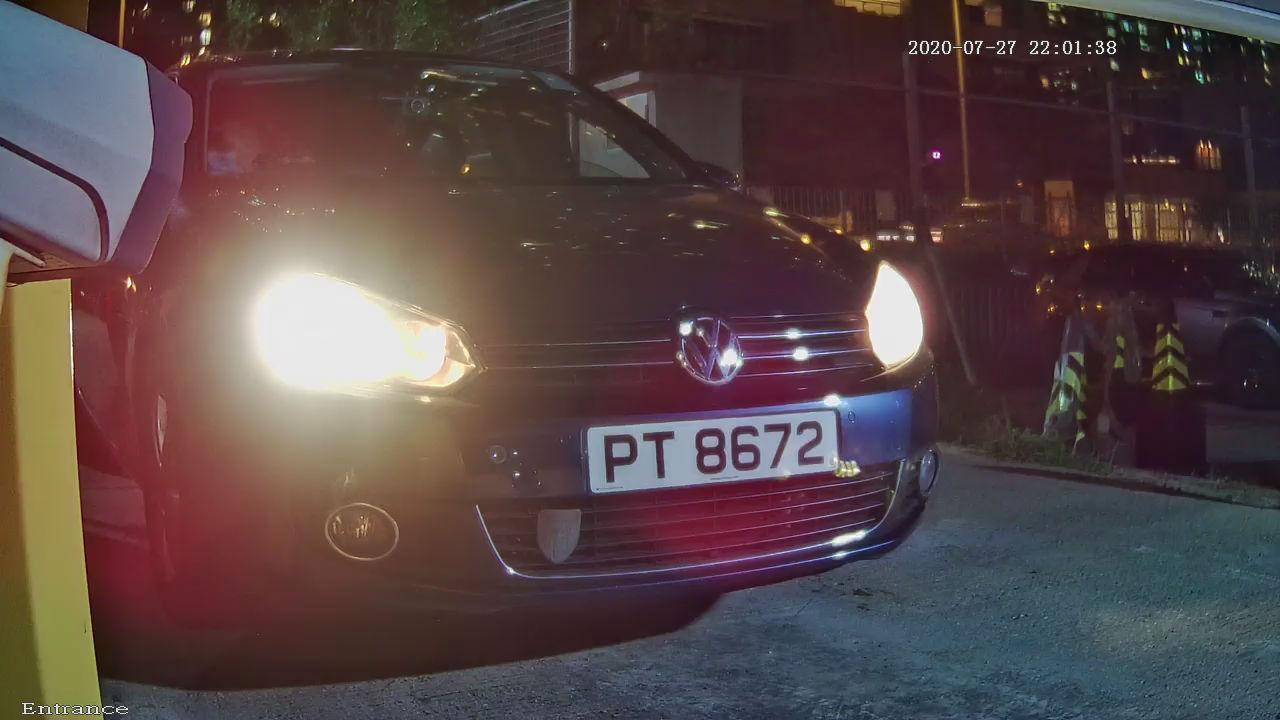privatecar: (103, 1, 1023, 701)
